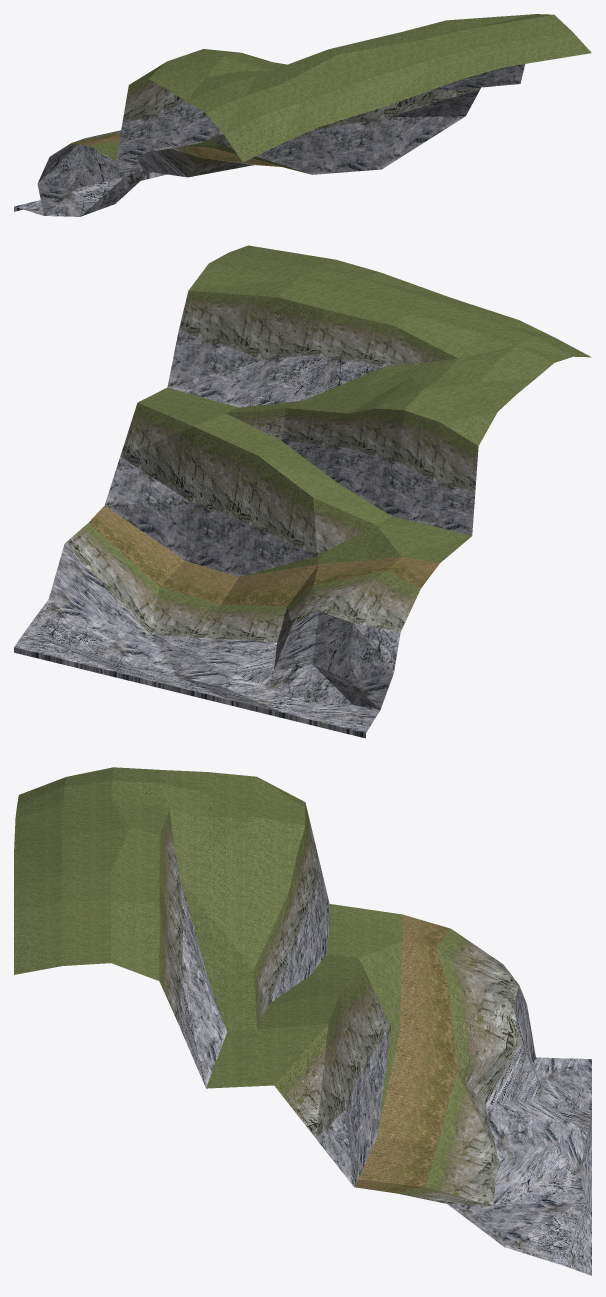
The model's file is ne_bit_03.obj.
3 renders of one model, top to bottom at view 1: azimuth 30°, elevation 25°; view 2: azimuth 150°, elevation 25°; view 3: azimuth 270°, elevation 25°, orthographic. The views are drawn at different scales.
Visible parts, largest first — view 1: ne_bit_03; view 2: ne_bit_03; view 3: ne_bit_03.
Part boxes in pixels (left/top/right/bottom): ne_bit_03: left=14, top=14, right=591, bottom=216; ne_bit_03: left=14, top=245, right=591, bottom=738; ne_bit_03: left=14, top=767, right=591, bottom=1275.
Size of the model in its own units: 231 by 158 by 254.
Materials: 6 (6 with a texture image).
